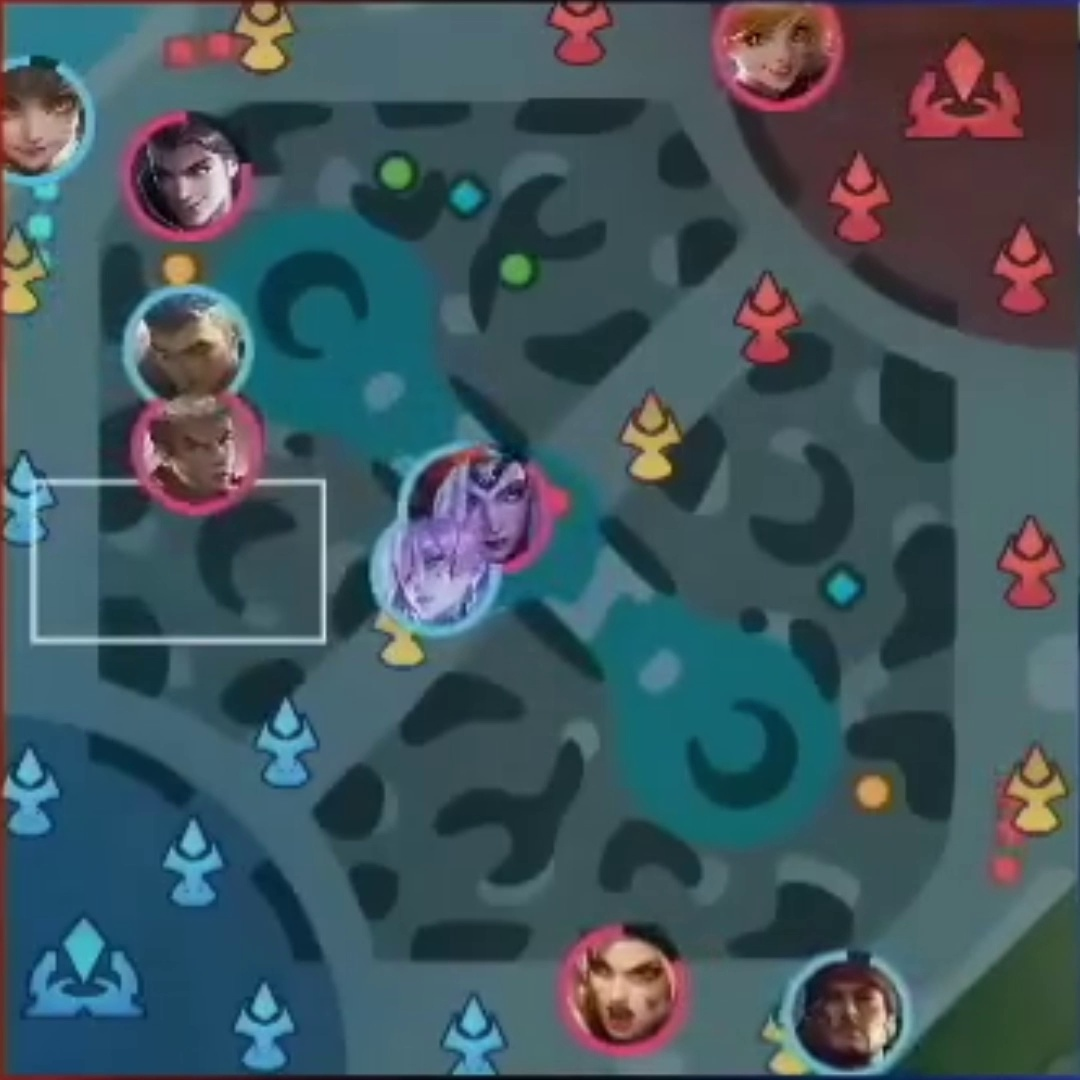Chou: (148, 408, 247, 503)
Claude: (129, 122, 240, 235)
Fanny: (723, 6, 840, 104)
Fredrinn: (132, 295, 241, 395)
Lapu-Lapu: (794, 958, 907, 1072)
Masha: (573, 935, 679, 1049)
Novaria: (383, 529, 482, 625)
Valentina: (448, 464, 540, 564)
Wanwan: (5, 58, 92, 178)
